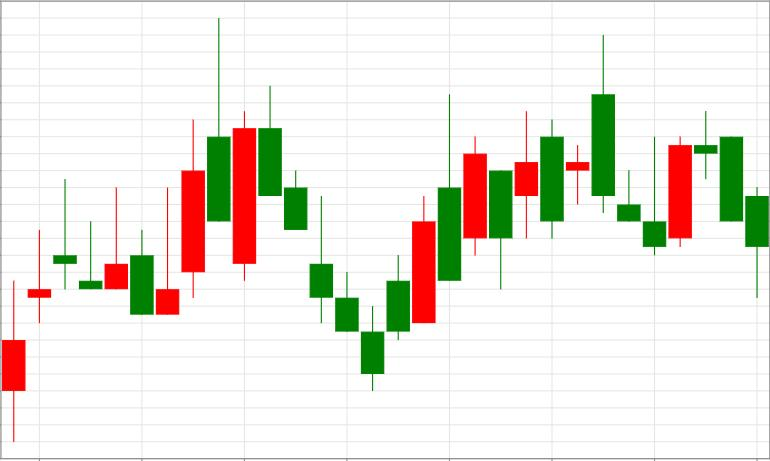inverse_hammer_rise: (566, 34, 666, 255), (54, 179, 179, 315)
